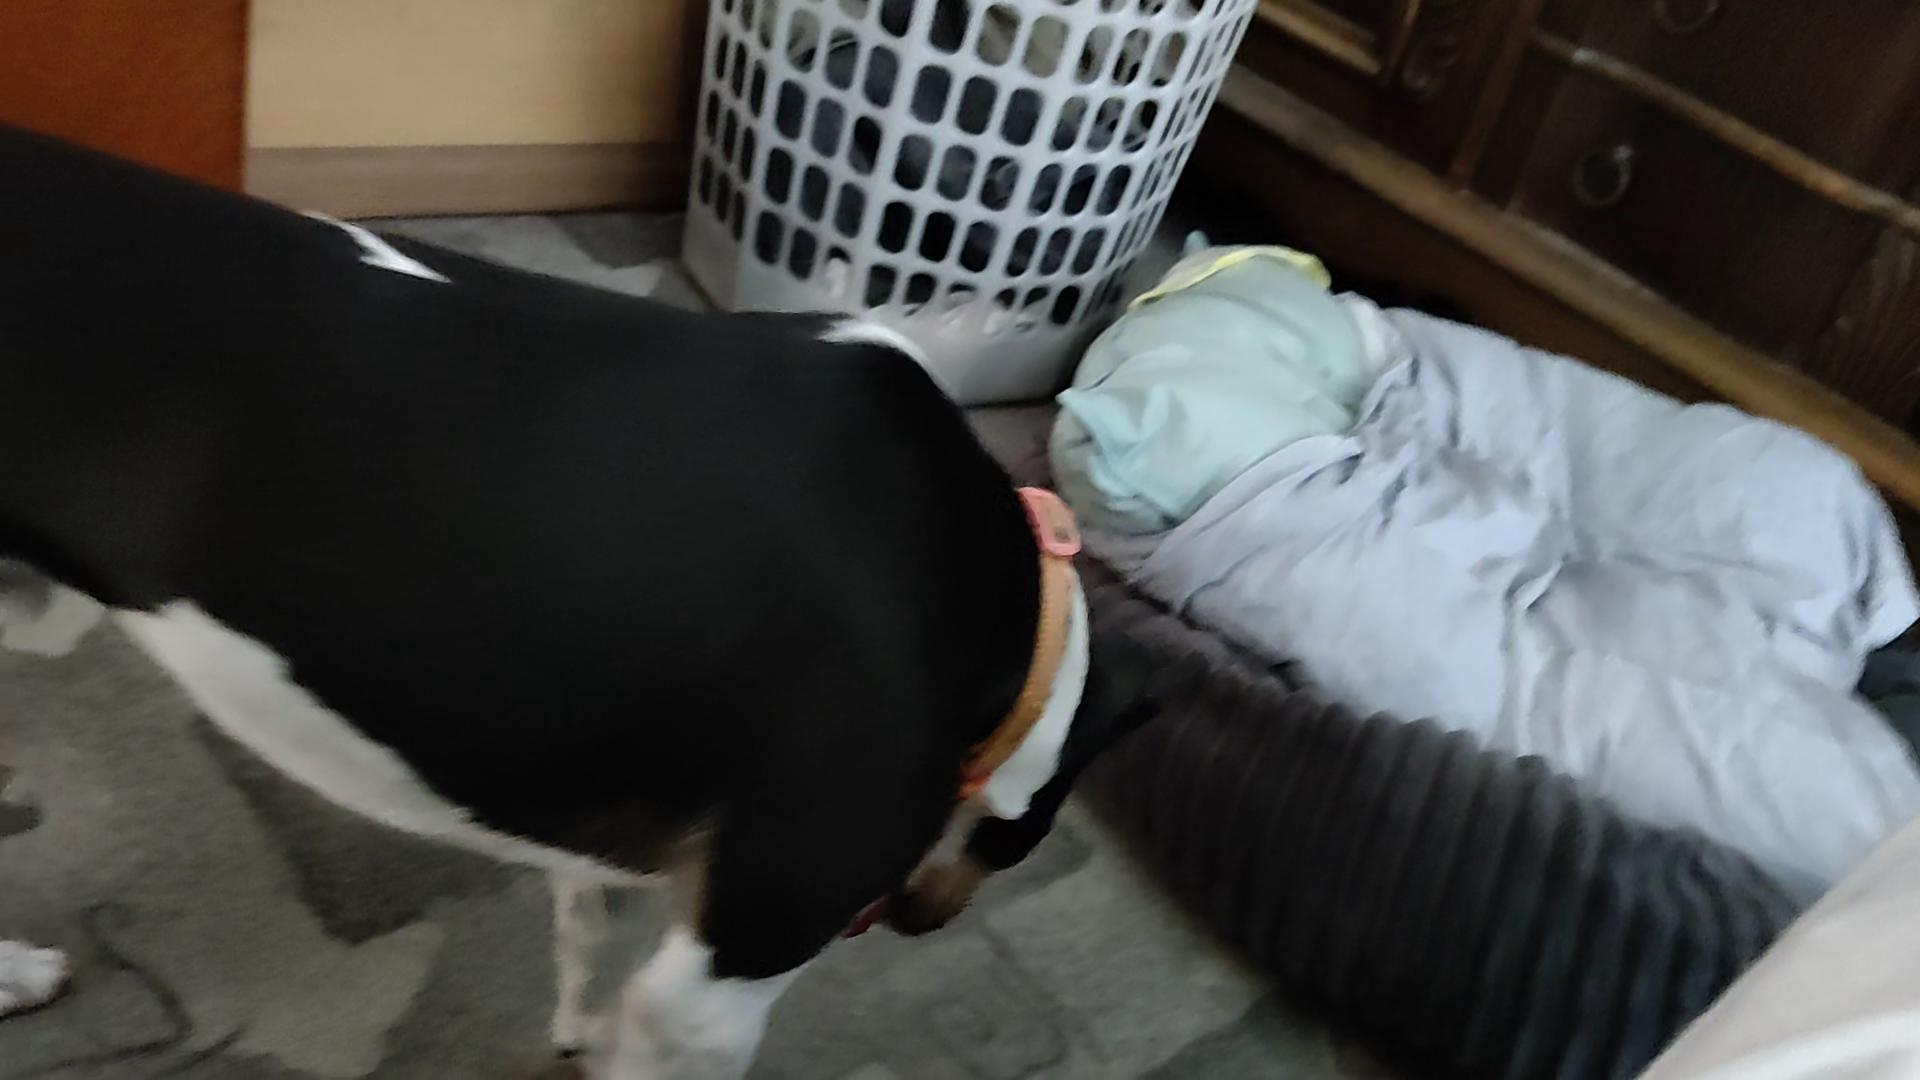Dog: (0, 92, 1175, 1079)
